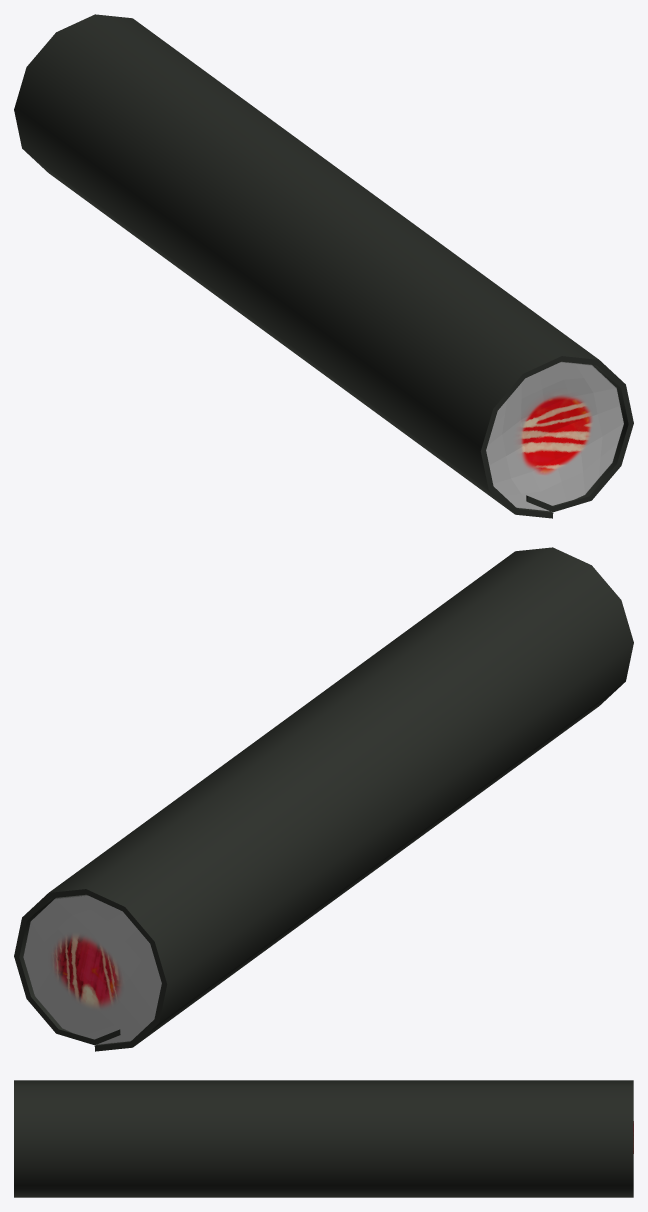
The model's file is Somon Hosomaki_u.fbx.
The picture shows the model from 3 angles, top to bottom: view 1: azimuth 30°, elevation 25°; view 2: azimuth 150°, elevation 25°; view 3: azimuth 270°, elevation 25°; orthographic projection. The views are drawn at different scales.
Visible parts, largest first — view 1: Somon Hosomaki uzun; view 2: Somon Hosomaki uzun; view 3: Somon Hosomaki uzun.
Boxes of the visible parts, box(x1,y1,x2,y2) form: Somon Hosomaki uzun: box(14, 14, 633, 518); Somon Hosomaki uzun: box(14, 547, 633, 1051); Somon Hosomaki uzun: box(14, 1080, 633, 1197).
Bounding box in the file's own units: 190 × 190 × 1005.
